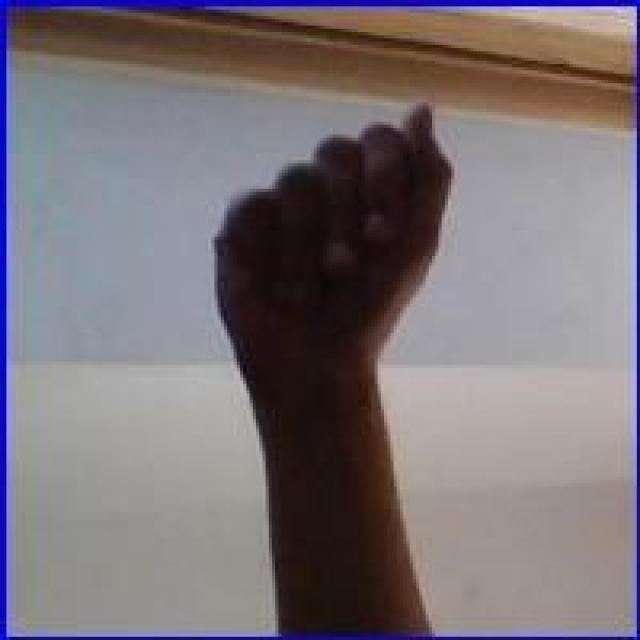A: (206, 99, 456, 378)
